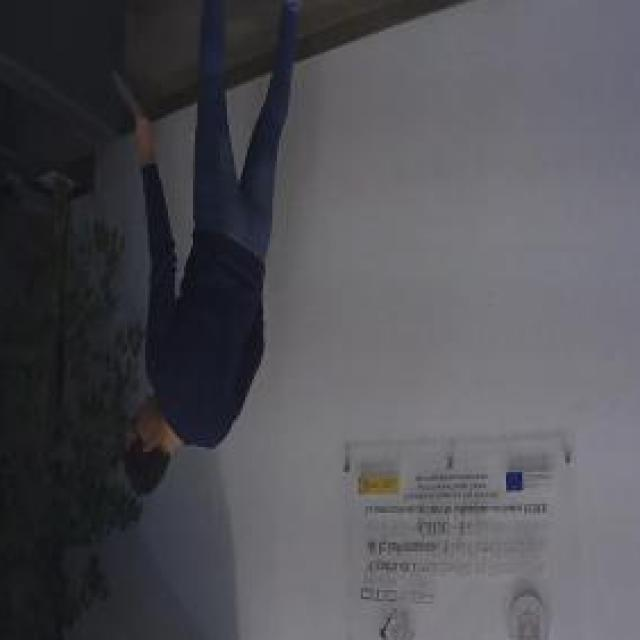knife: (109, 64, 157, 136)
